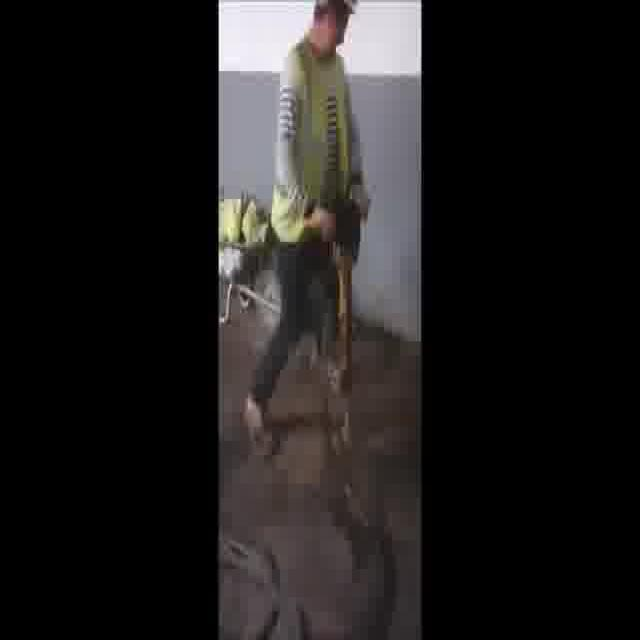safety_helmet: (270, 39, 348, 245)
